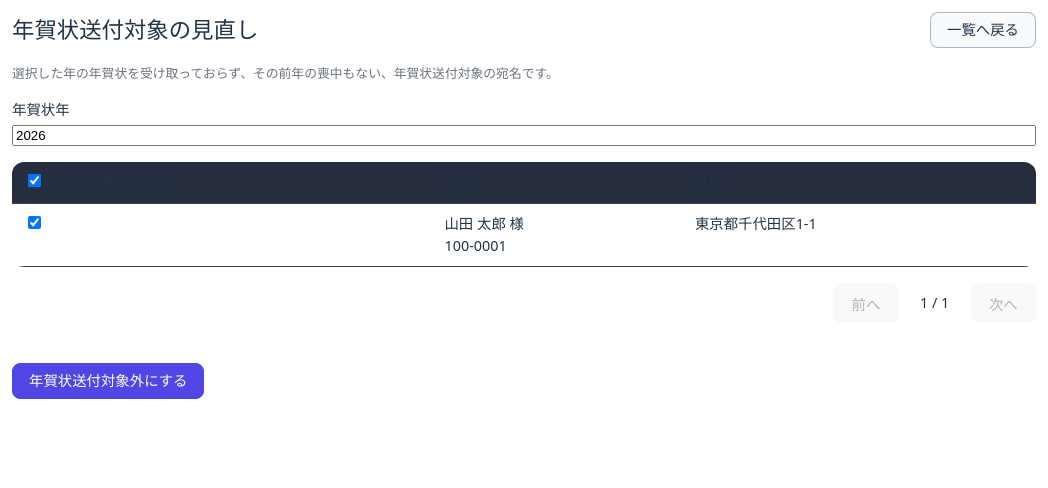
Test: NengaTargetReviewPage › shows updated and skipped counts after disable
Check: the checkbox named "山田 太郎 様 を年賀状対象外にする" is shown, box [28,216,41,229]
Click the button "年賀状送付対象外にする": coordinates (108, 381) [12,363,204,399]
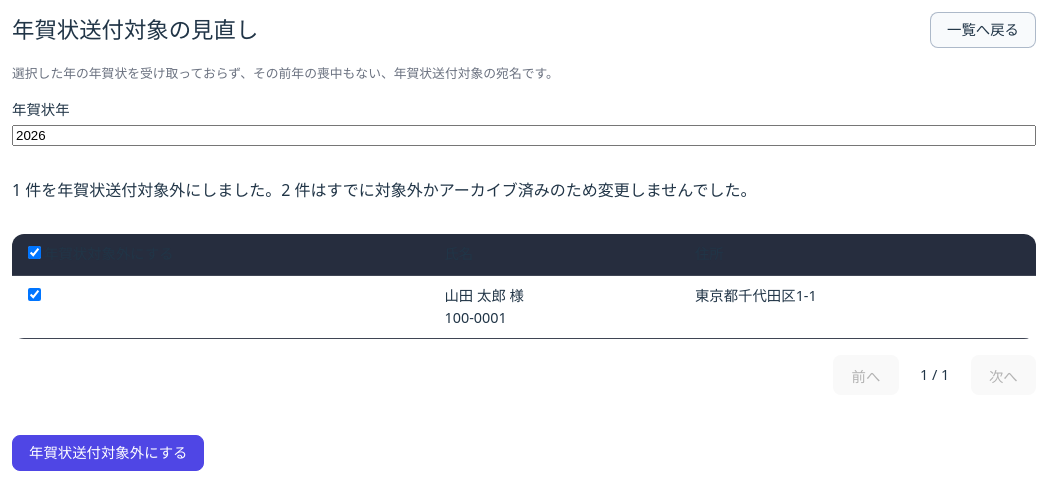
Check: the message reads "1 件を年賀状送付対象外にしました。2 件はすでに対象外かアーカイブ済みのため変更しませんでした。", box [12,179,756,201]
